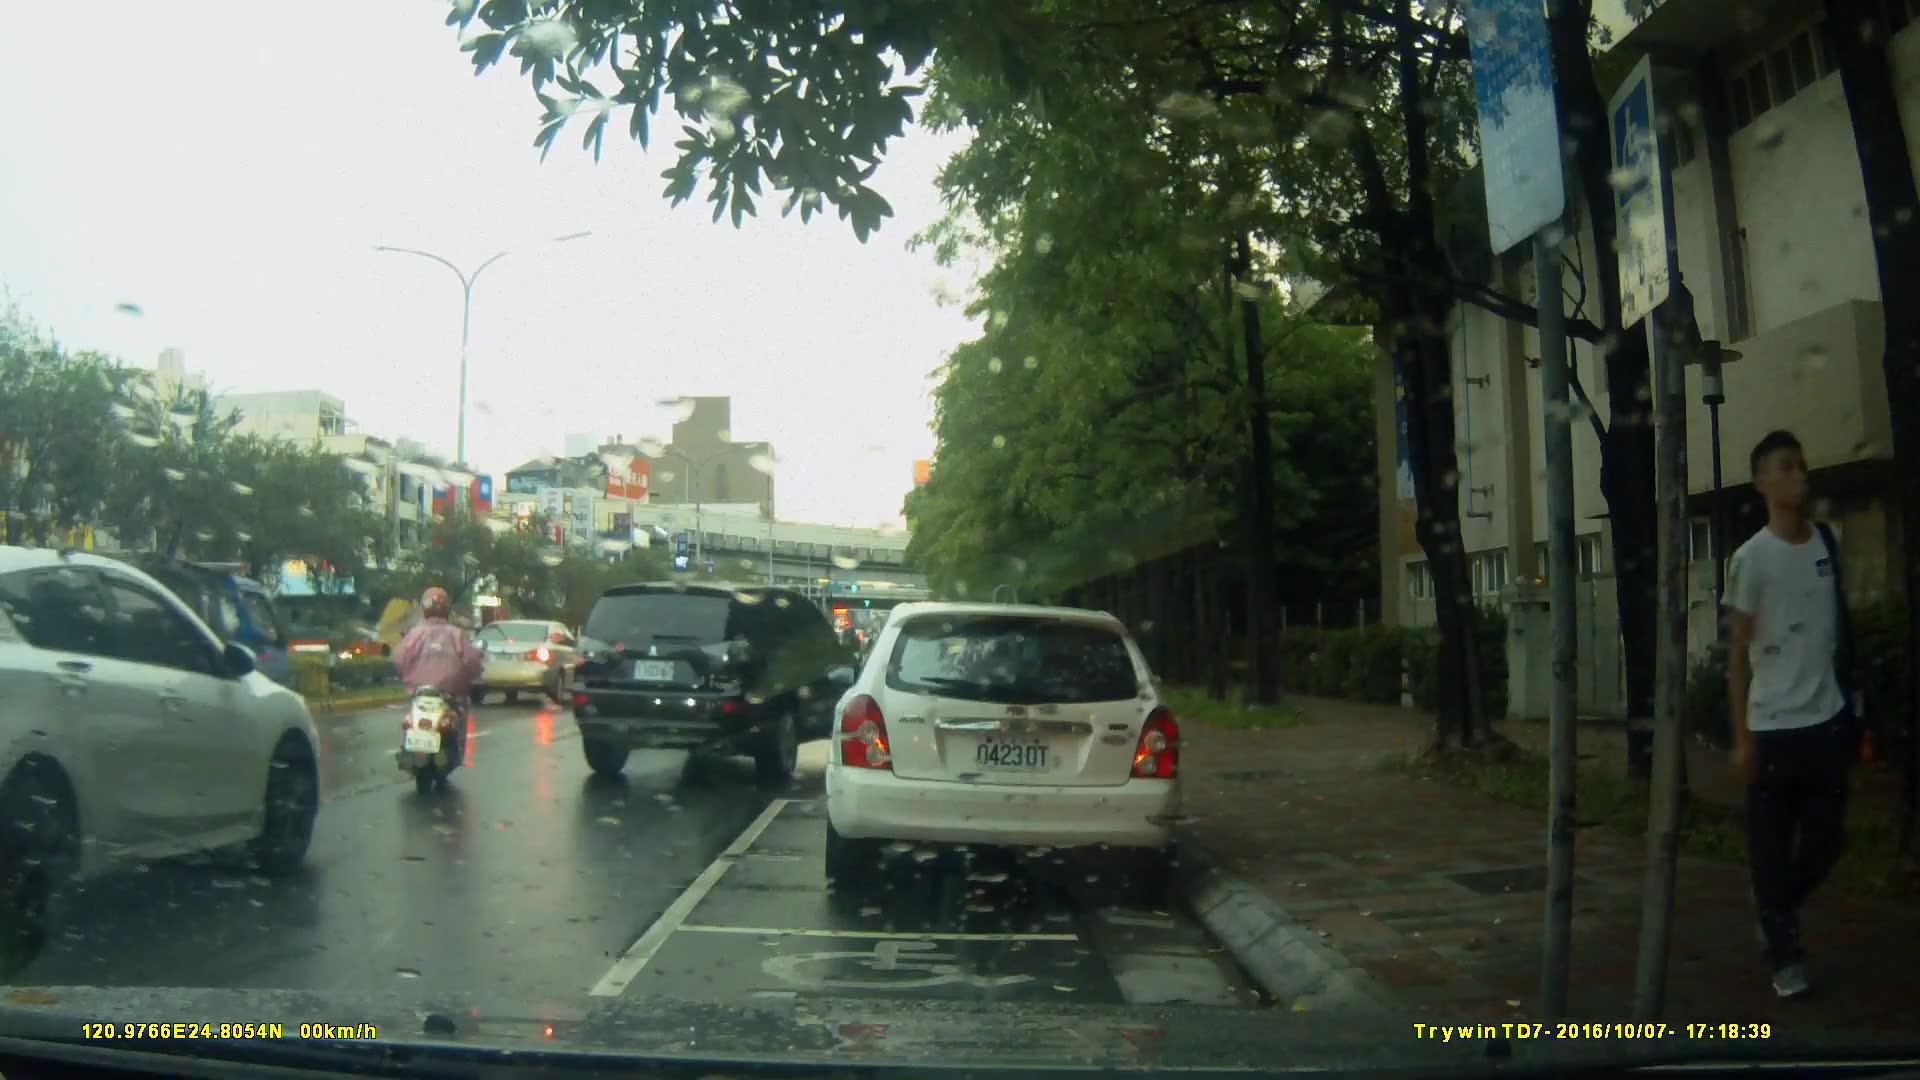pedestrian: (1725, 420, 1865, 1005)
rider: (405, 586, 481, 788)
vehicle: (1, 543, 328, 952), (820, 602, 1188, 898), (562, 577, 870, 779), (260, 550, 490, 690), (461, 618, 584, 707)
